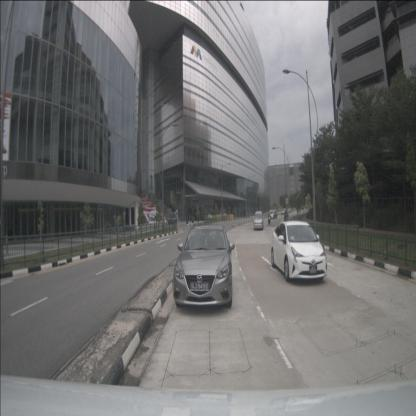vehicle-car: (172, 223, 232, 308), (270, 220, 328, 282), (254, 211, 263, 230), (268, 210, 277, 219), (204, 213, 213, 220), (280, 208, 286, 215)
vehicle-truck: (167, 212, 177, 224)
